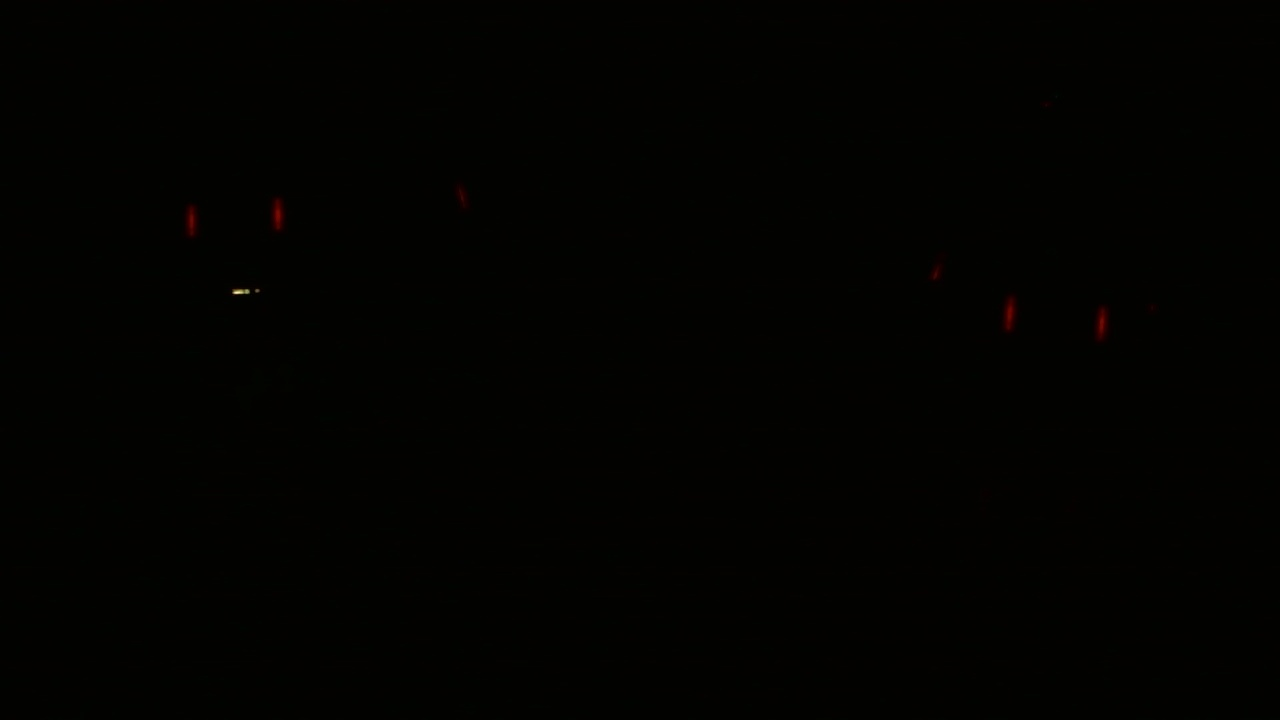pair1: (999, 291, 1111, 344), (179, 197, 288, 238)
